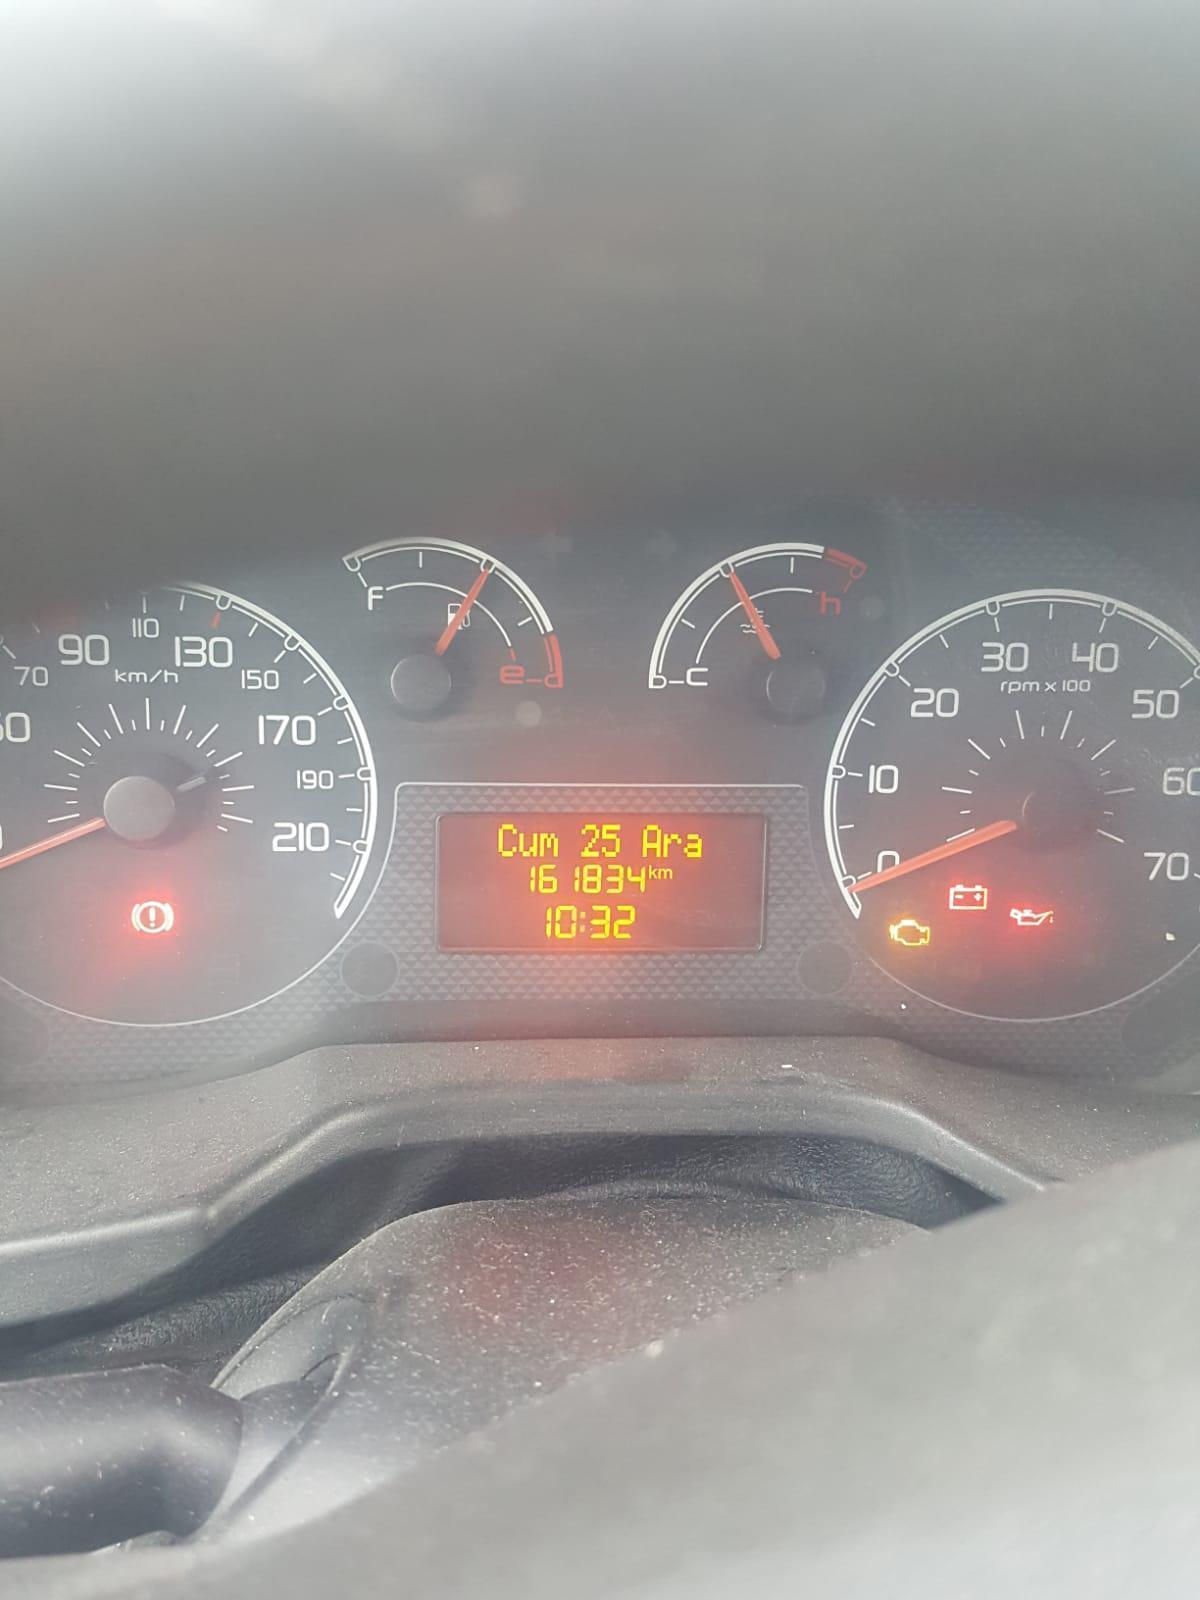0: (555, 903, 575, 939)
1: (571, 864, 582, 893), (543, 905, 552, 939), (526, 862, 536, 891)
2: (613, 903, 637, 940), (579, 821, 599, 858)
3: (589, 905, 610, 940), (605, 862, 621, 894)
4: (625, 864, 645, 892)
5: (603, 821, 621, 857)
6: (537, 862, 556, 893)
8: (584, 863, 603, 894)
X: (642, 823, 663, 858), (495, 821, 516, 855), (683, 831, 703, 859), (662, 831, 681, 858), (517, 831, 537, 855), (539, 831, 558, 857), (579, 908, 586, 937), (657, 867, 672, 881), (648, 864, 658, 879)
odometer: (432, 805, 771, 961)
